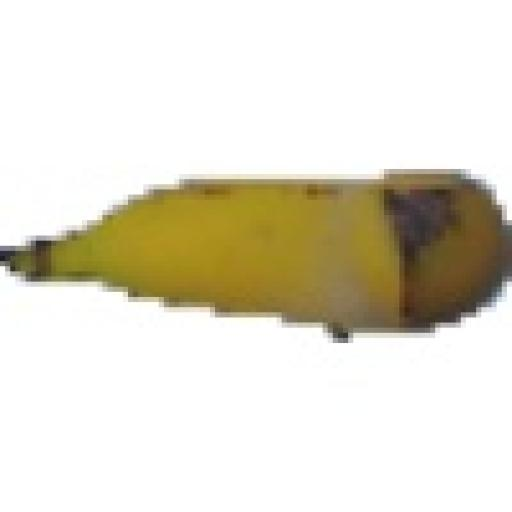banana: (0, 175, 506, 332)
